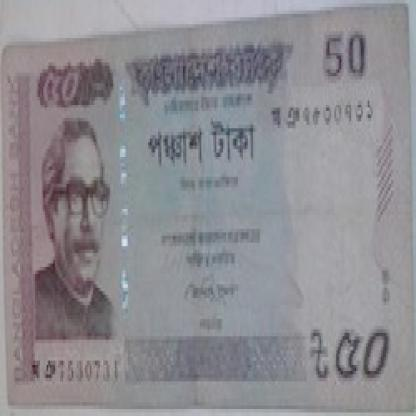Fifty taka: (330, 315, 392, 385), (36, 66, 96, 121)
